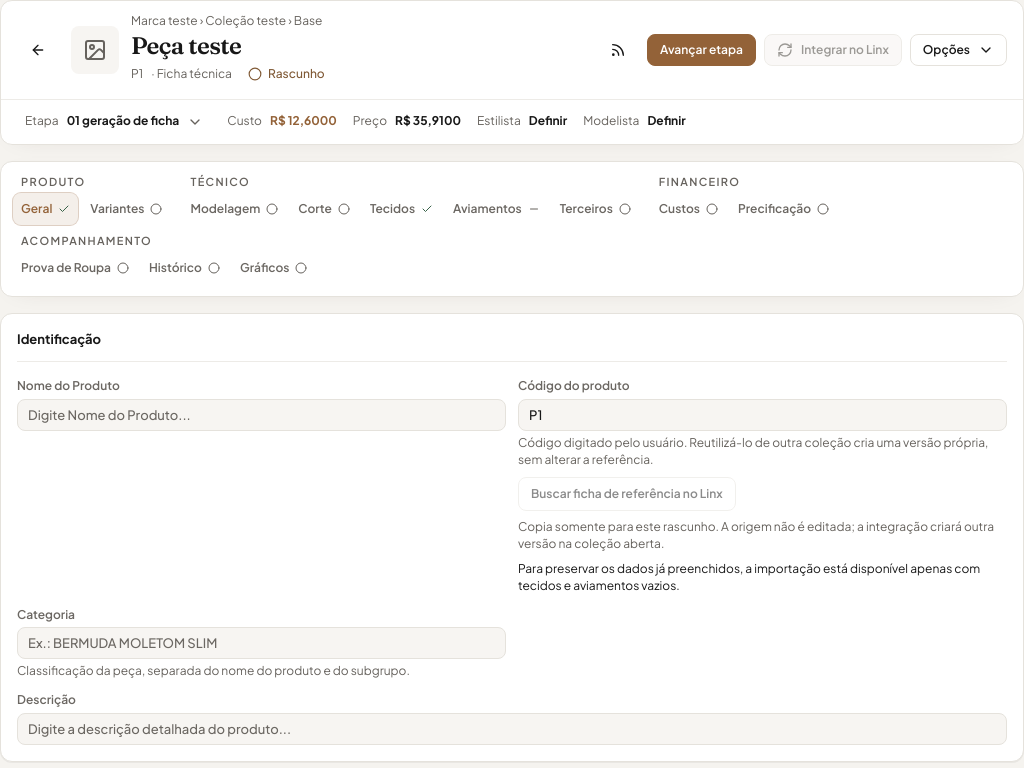
Test: Avanço sequencial da ficha › 01 para 02 avança sem confirmação e mantém os dados já presentes
This screenshot has width=1024, height=768.
Click the button "Avançar etapa" at x=702, y=50, box [647,34,756,66]
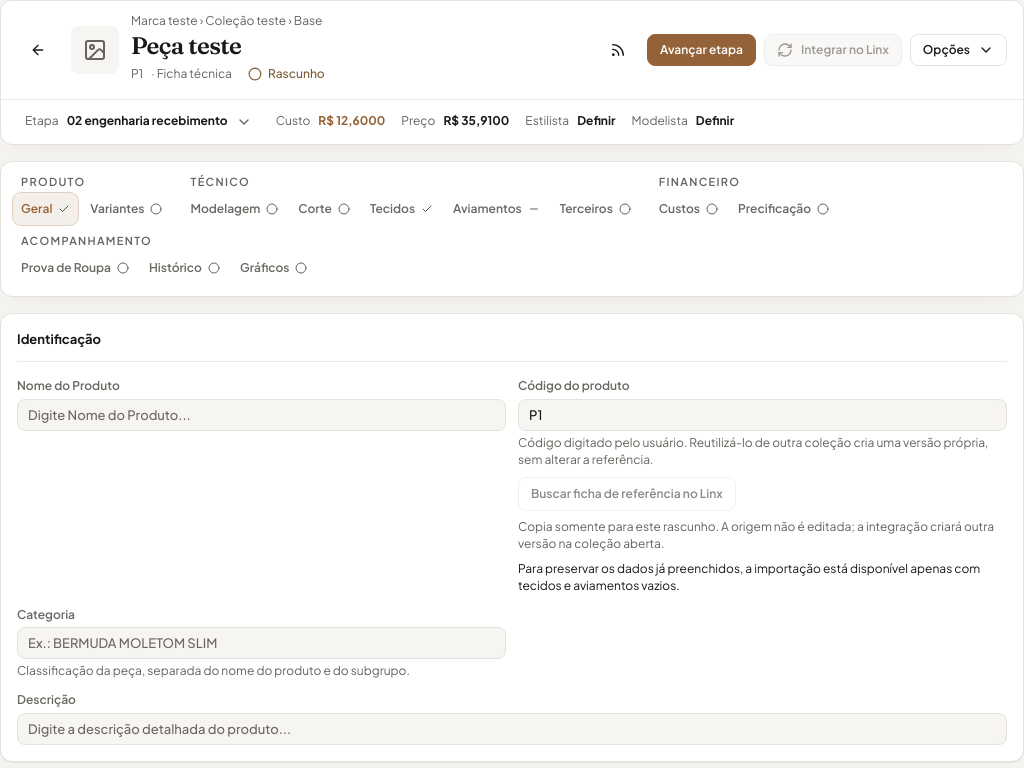
Now the text "02 engenharia recebimento" is shown, box [67,113,228,130]
Click the button "Avançar etapa" at x=702, y=50, box [647,34,756,66]
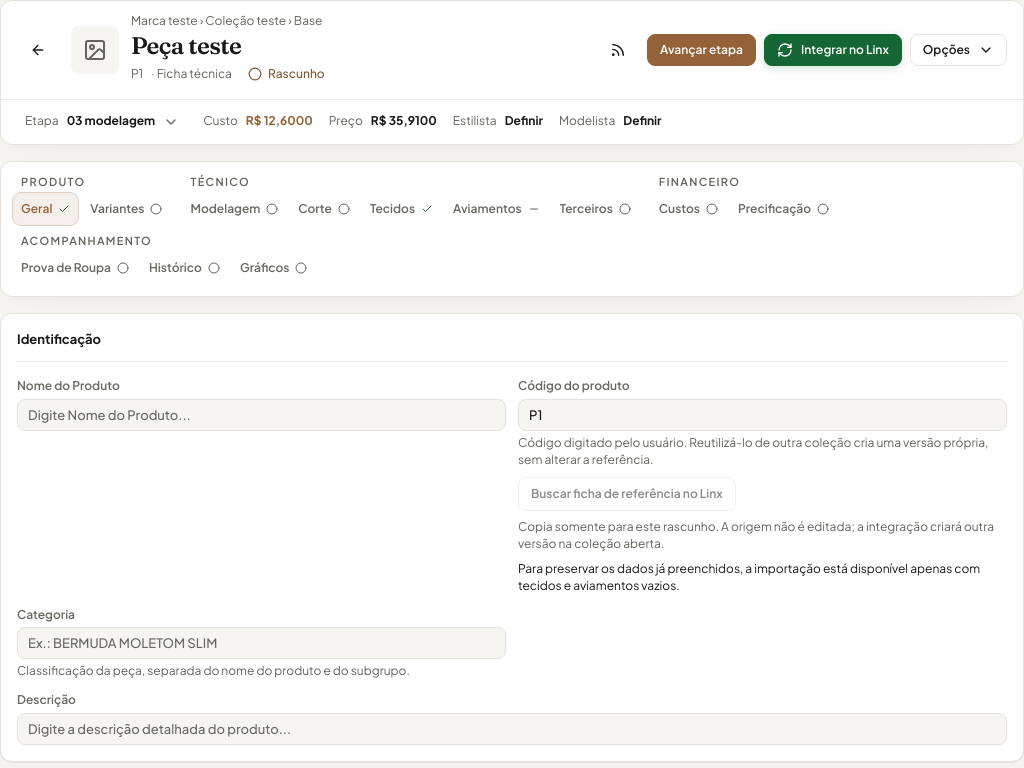
Now the text "03 modelagem" is shown, box [67,113,155,130]
